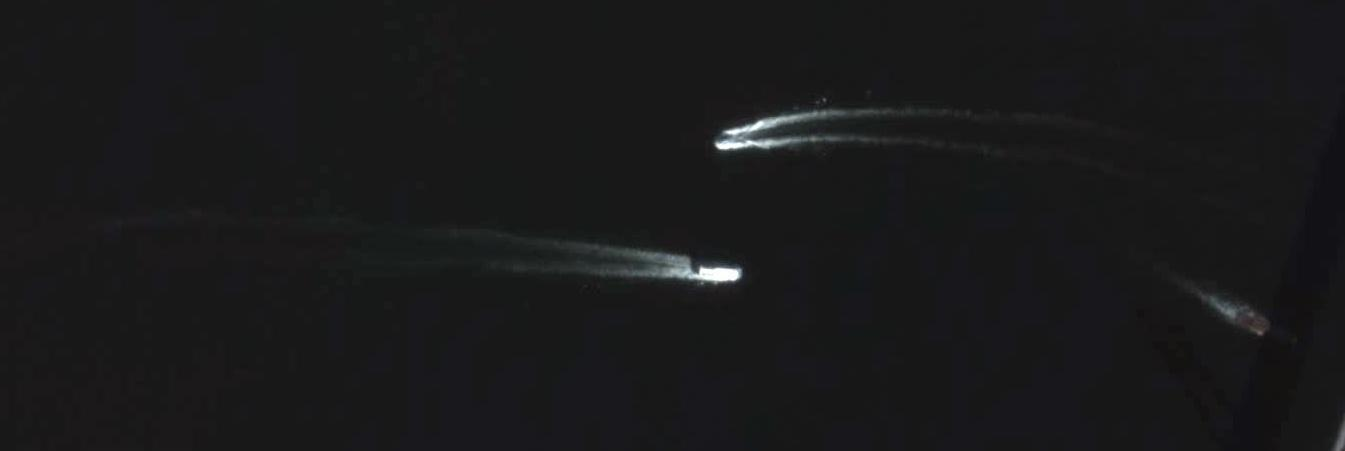person: (1236, 309, 1272, 336), (700, 266, 741, 282), (715, 132, 739, 143)
